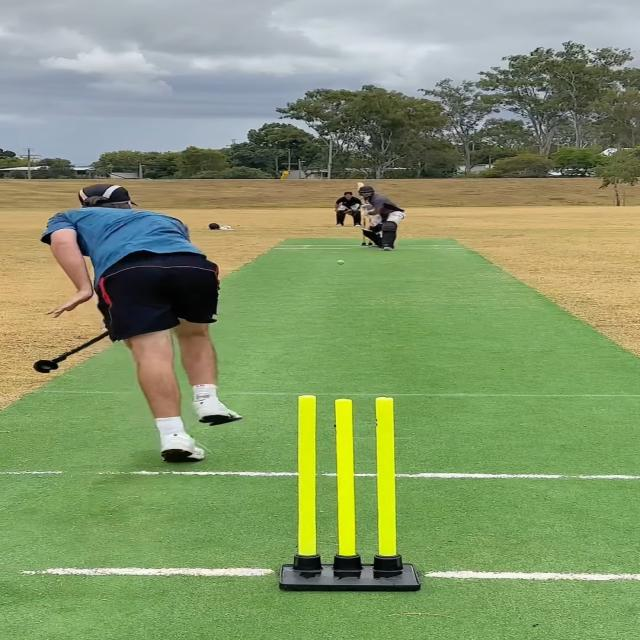ball: (335, 259, 346, 266)
stump: (277, 392, 428, 592)
